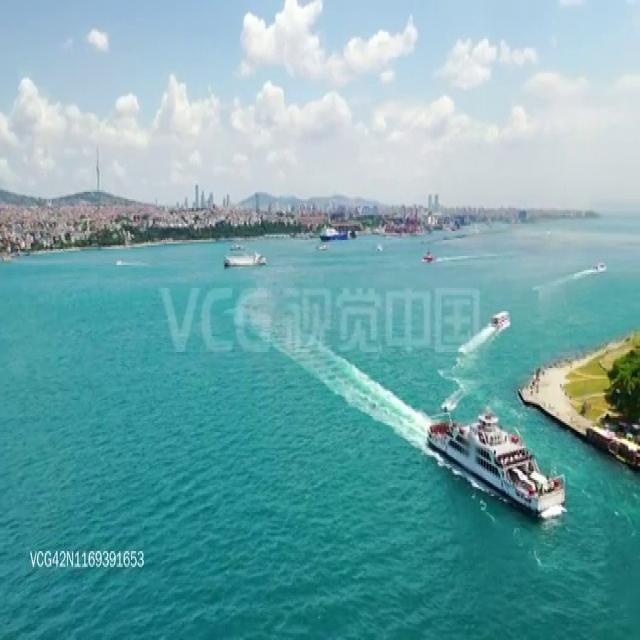houseboat: (592, 260, 607, 279), (442, 397, 453, 411), (423, 249, 434, 263), (230, 242, 245, 252), (374, 243, 384, 256), (316, 242, 328, 252), (115, 255, 124, 267)
passenger ship: (430, 409, 563, 522), (223, 249, 266, 271), (320, 222, 350, 240), (491, 307, 510, 332)
